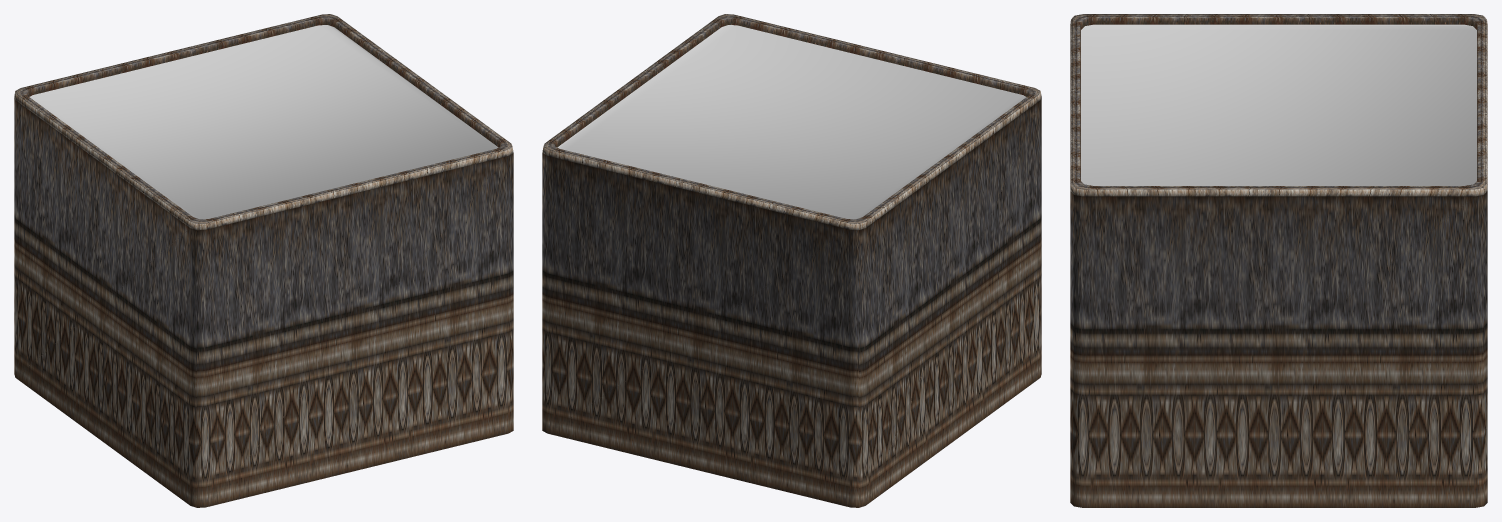
The model's file is prf_env_bld_BaseBuild_Tiny.fbx.
3 renders of one model, left to right at view 1: azimuth 30°, elevation 25°; view 2: azimuth 150°, elevation 25°; view 3: azimuth 270°, elevation 25°, orthographic. The views are drawn at different scales.
Visible parts, largest first — view 1: prf_env_bld_BaseBuild_Tiny; view 2: prf_env_bld_BaseBuild_Tiny; view 3: prf_env_bld_BaseBuild_Tiny.
Boxes of the visible parts, bbox=[...] form: prf_env_bld_BaseBuild_Tiny: bbox=[14, 14, 513, 507]; prf_env_bld_BaseBuild_Tiny: bbox=[542, 14, 1041, 507]; prf_env_bld_BaseBuild_Tiny: bbox=[1070, 14, 1487, 507].
Bounding box in the file's own units: 2.5 × 2.1 × 2.5.
